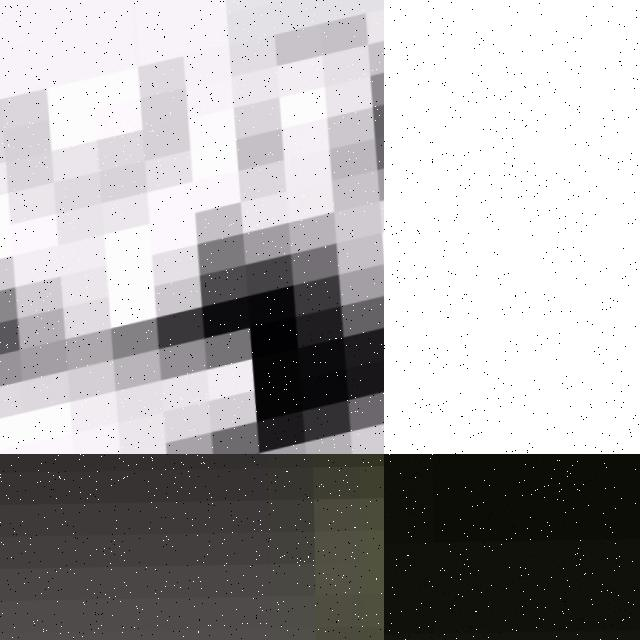drone: (0, 0, 384, 454)
